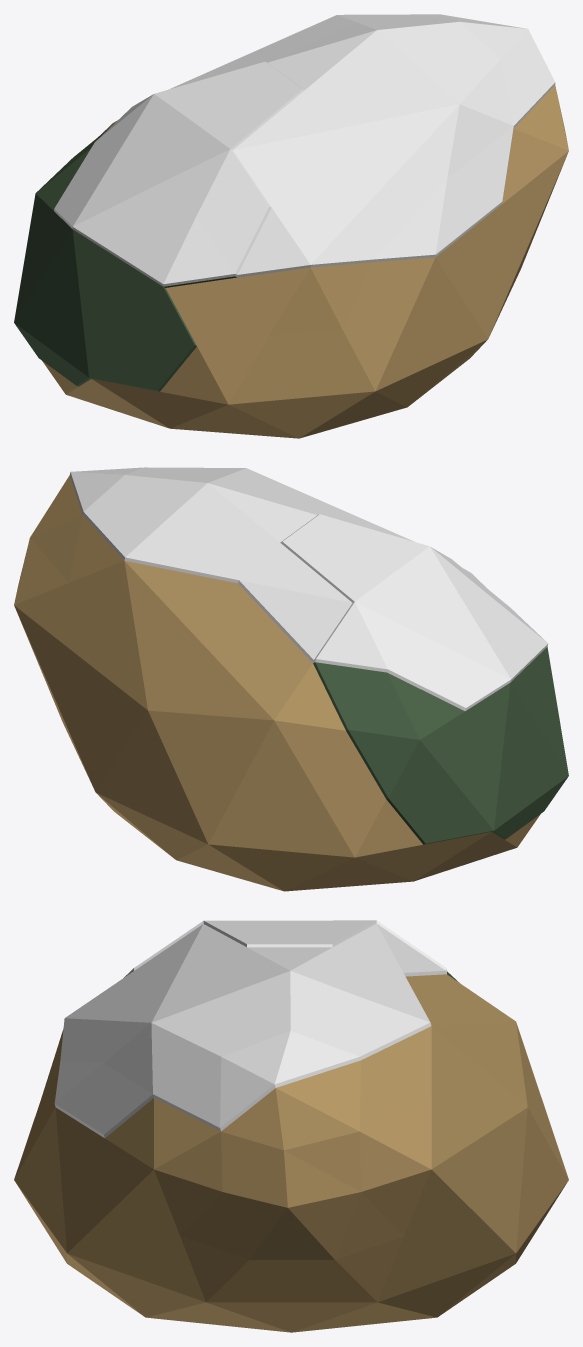
Rendered from MossStoneWb.fbx.
3 renders of one model, top to bottom at view 1: azimuth 30°, elevation 25°; view 2: azimuth 150°, elevation 25°; view 3: azimuth 270°, elevation 25°, orthographic. The views are drawn at different scales.
Visible parts, largest first — view 1: MossStoneW.001; view 2: MossStoneW.001; view 3: MossStoneW.001.
Part boxes in pixels (x1,y1,x2,y2): MossStoneW.001: (14, 14, 568, 438); MossStoneW.001: (14, 467, 568, 891); MossStoneW.001: (14, 920, 568, 1332).
Size of the model in its own units: 1089 by 601 by 913.
